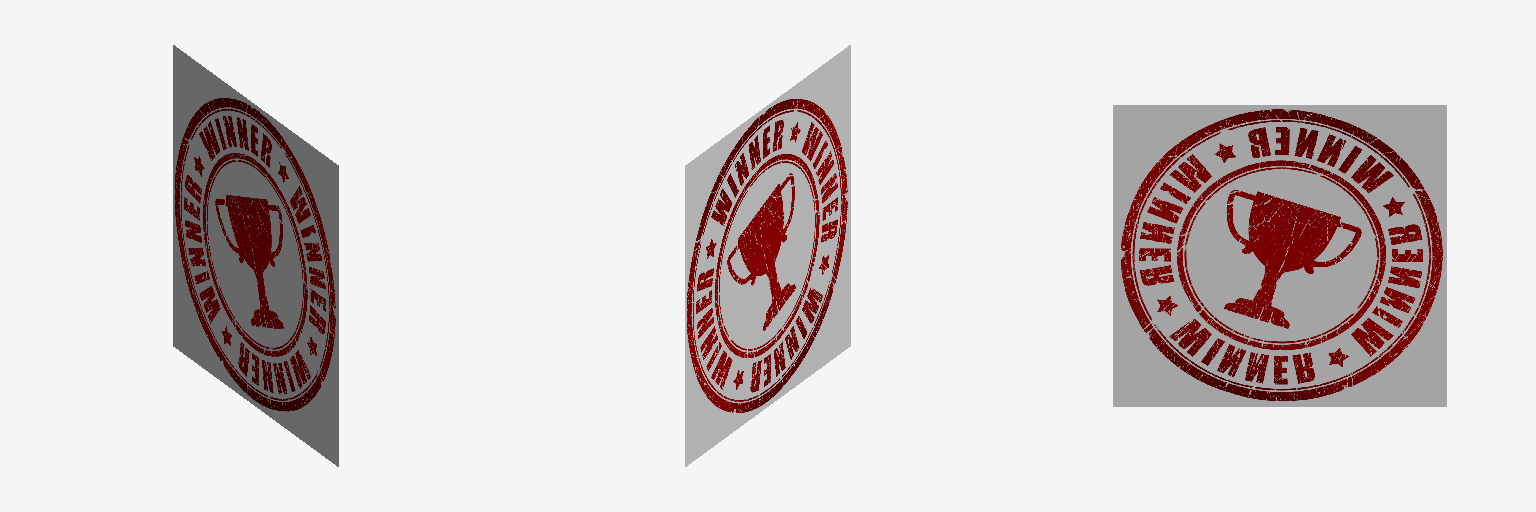
3 views of the same model, side by side, from view 1: azimuth 30°, elevation 25°; view 2: azimuth 150°, elevation 25°; view 3: azimuth 270°, elevation 25° (orthographic).
Parts seen in each view (by area): view 1: 3DGeom~1; view 2: 3DGeom~1; view 3: 3DGeom~1.
Part boxes in pixels (x1,y1,x2,y2): 3DGeom~1: (173,45,338,466); 3DGeom~1: (685,45,850,466); 3DGeom~1: (1113,105,1446,406).
Size of the model in its own units: 0 by 3 by 3.
1 materials, 1 textured.